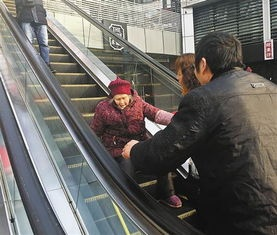falling: (86, 75, 168, 180)
